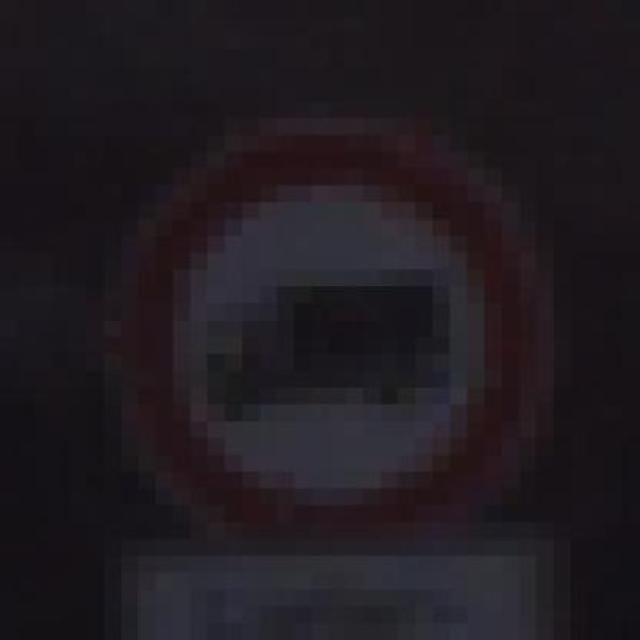Truck traffic is prohibited: (81, 105, 565, 577)
